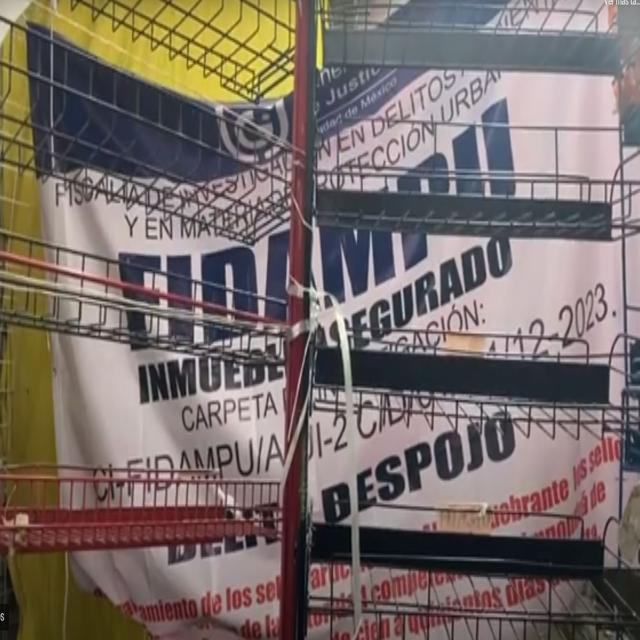stamps: (24, 0, 636, 633)
